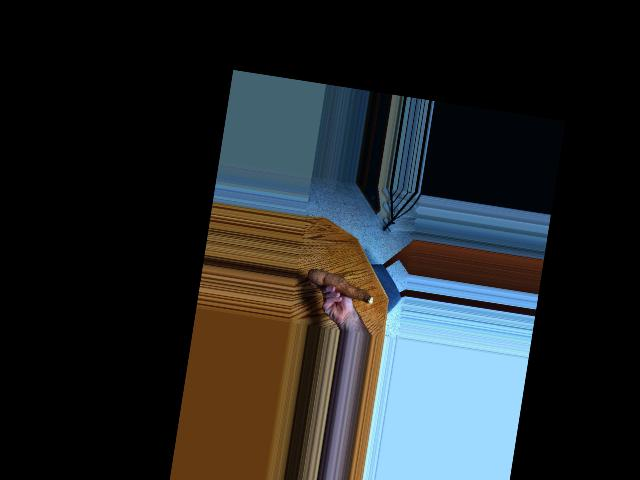sweet_potato: (305, 265, 378, 307)
